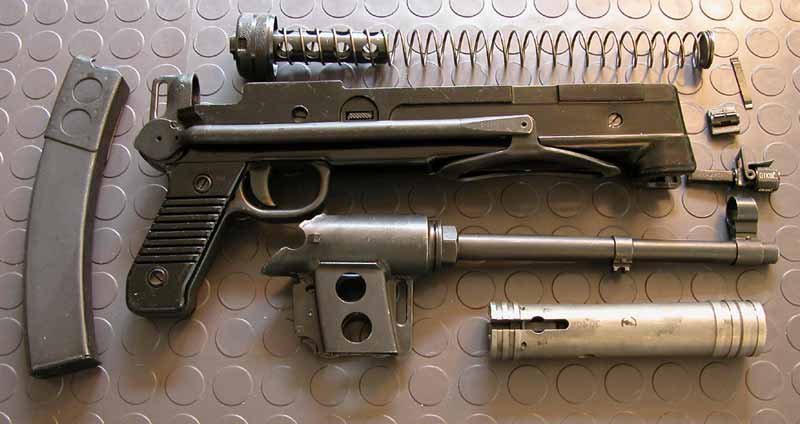rifle: (122, 31, 751, 336)
